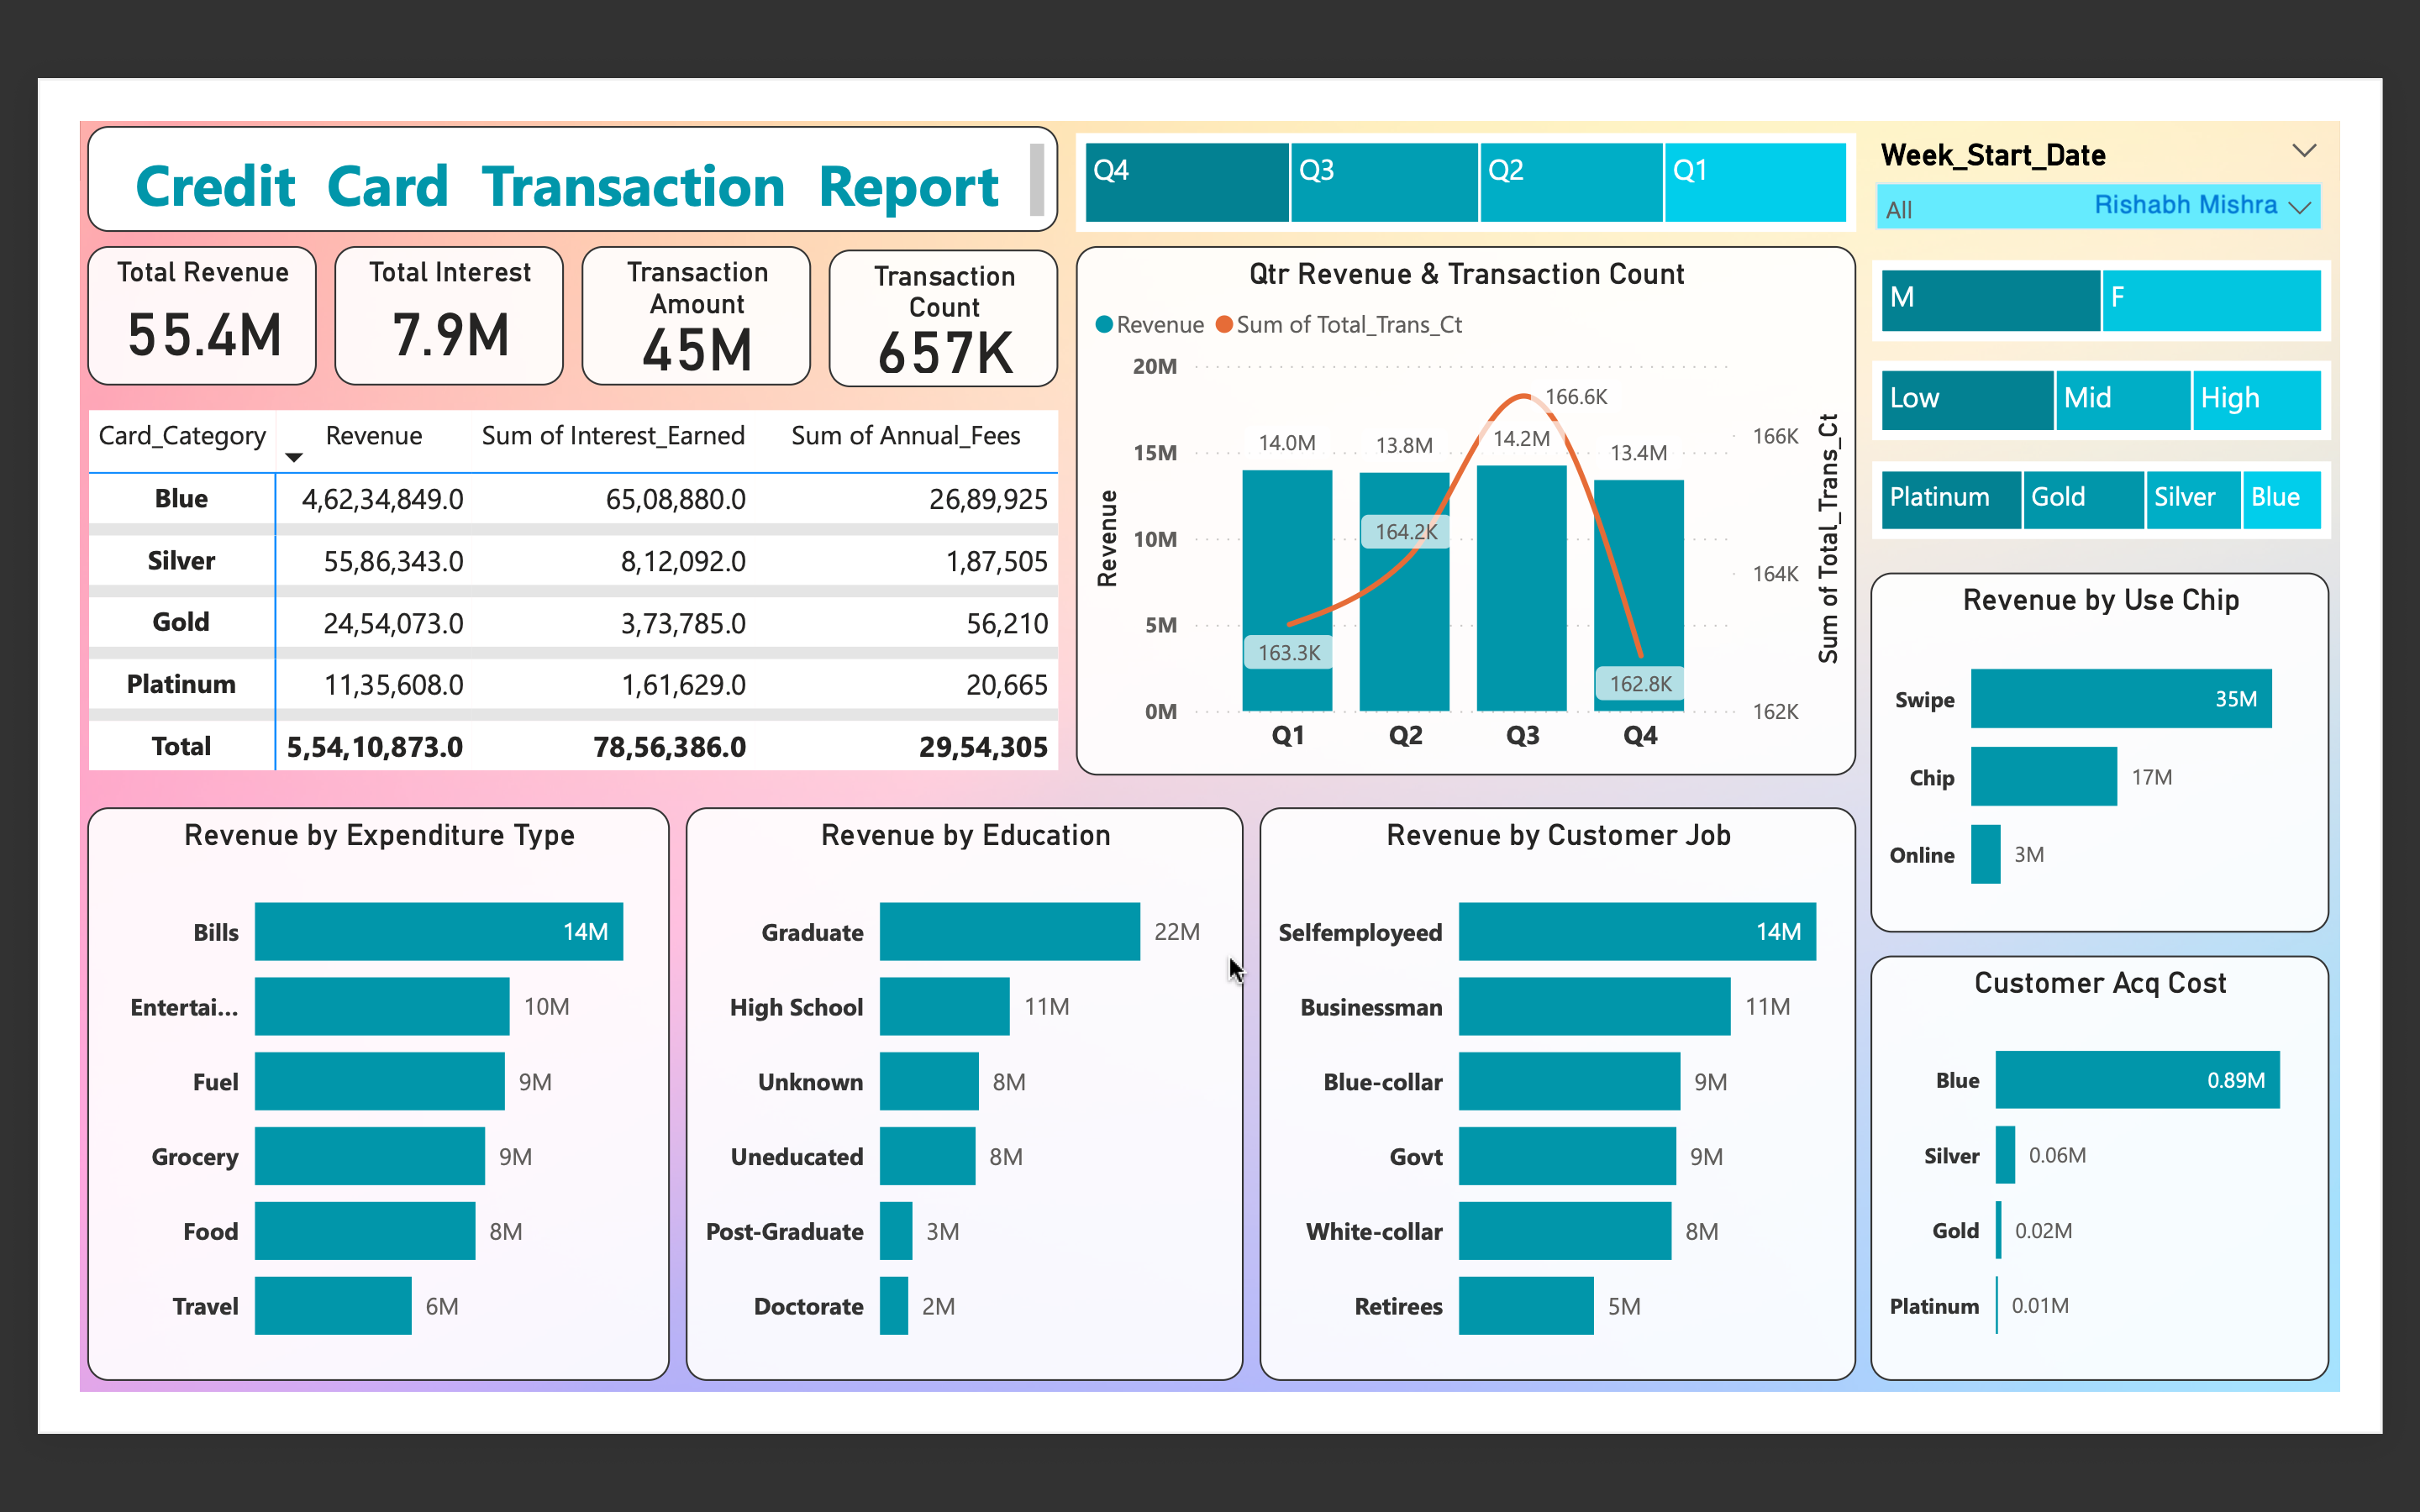

Layout of this report page (visuals, bound fields, positions):
{"tool":"powerbi","page":{"name":"CC Transaction","canvas":[1280,720],"ordinal":1},"visuals":[{"type":"textbox","box":[10.4,15.7,529.8,64.8],"z":0},{"type":"lineStackedColumnComboChart","title":"QTR Revenue and total trans count","fields":{"Category":["public cc_detail.qtr"],"Y":["Sum(public cc_detail.Revenue)"],"Y2":["Sum(public cc_detail.total_trans_ct)"]},"box":[545.4,96.1,377.2,327.1],"z":1000},{"type":"barChart","title":"Revenue by Expenditure type","fields":{"Y":["Sum(public cc_detail.Revenue)"],"Category":["public cc_detail.exp_type"]},"box":[10.4,431.5,298.8,280],"z":2000},{"type":"barChart","title":"Revenue by Education","fields":{"Y":["Sum(public cc_detail.Revenue)"],"Category":["public cust_detail.education_level"]},"box":[316.6,431.5,298.8,280],"z":3000},{"type":"barChart","title":"Revenue by Customer Job","fields":{"Y":["Sum(public cc_detail.Revenue)"],"Category":["public cust_detail.customer_job"]},"box":[622.8,431.5,299.9,280],"z":4000},{"type":"barChart","title":"Customer Acq Cost","fields":{"Y":["Sum(public cc_detail.Revenue)"],"Category":["public cc_detail.card_category"]},"box":[930,522.4,344.8,189.1],"z":5000},{"type":"barChart","title":"Revenue by Use Chip","fields":{"Y":["Sum(public cc_detail.Revenue)"],"Category":["public cc_detail.use_chip"]},"box":[927.9,318.7,345.9,189.1],"z":6000},{"type":"tableEx","fields":{"Values":["public cc_detail.card_category","Sum(public cc_detail.Revenue)","Sum(public cc_detail.total_trans_amt)","Sum(public cc_detail.interest_earned)"]},"box":[10.4,190.2,529.8,233],"z":7000},{"type":"card","title":"Revenue","fields":{"Values":["Sum(public cc_detail.Revenue)"]},"box":[10.4,96.1,123.3,78.4],"z":8000},{"type":"card","title":"Amount","fields":{"Values":["Sum(public cc_detail.total_trans_amt)"]},"box":[146.3,96.1,123.3,78.4],"z":9000},{"type":"card","title":"Total Intrest","fields":{"Values":["Sum(public cc_detail.interest_earned)"]},"box":[281.1,96.1,123.3,78.4],"z":10000},{"type":"card","title":"Count","fields":{"Values":["Sum(public cc_detail.total_trans_ct)"]},"box":[416.9,96.1,123.3,78.4],"z":11000},{"type":"slicer","fields":{"Values":["public cc_detail.week_start_date"]},"box":[928.9,21.9,345.9,58.5],"z":12000},{"type":"treemap","fields":{"Group":["public cc_detail.qtr"],"Values":["Avg(public cc_detail.client_num)"]},"box":[545.4,21.9,377.2,58.5],"z":13000},{"type":"treemap","fields":{"Values":["Avg(public cc_detail.client_num)"],"Group":["public cust_detail.gender"]},"box":[928.9,107.6,345.9,58.5],"z":14000},{"type":"treemap","fields":{"Values":["Avg(public cc_detail.client_num)"],"Group":["public cc_detail.card_category"]},"box":[928.9,241.4,344.8,58.5],"z":15000},{"type":"treemap","fields":{"Values":["Avg(public cc_detail.client_num)"],"Group":["public cust_detail.IncomeGroup"]},"box":[928.9,174.5,344.8,58.5],"z":16000}]}

Visuals, with their boxes on the page's 1280x720 design canvas (x1, y1, x2, y2). These are canvas units, not pixel positions in the 2420x1512 screenshot, which may show the page scaled, cropped or inside an application window:
textbox: bbox=[10, 16, 540, 80]
"QTR Revenue and total trans count" lineStackedColumnComboChart: bbox=[545, 96, 923, 423]
"Revenue by Expenditure type" barChart: bbox=[10, 432, 309, 712]
"Revenue by Education" barChart: bbox=[317, 432, 615, 712]
"Revenue by Customer Job" barChart: bbox=[623, 432, 923, 712]
"Customer Acq Cost" barChart: bbox=[930, 522, 1275, 712]
"Revenue by Use Chip" barChart: bbox=[928, 319, 1274, 508]
tableEx - public cc_detail.card_category x Sum(public cc_detail.Revenue): bbox=[10, 190, 540, 423]
"Revenue" card: bbox=[10, 96, 134, 174]
"Amount" card: bbox=[146, 96, 270, 174]
"Total Intrest" card: bbox=[281, 96, 404, 174]
"Count" card: bbox=[417, 96, 540, 174]
slicer - public cc_detail.week_start_date: bbox=[929, 22, 1275, 80]
treemap - public cc_detail.qtr x Avg(public cc_detail.client_num): bbox=[545, 22, 923, 80]
treemap - Avg(public cc_detail.client_num) x public cust_detail.gender: bbox=[929, 108, 1275, 166]
treemap - Avg(public cc_detail.client_num) x public cc_detail.card_category: bbox=[929, 241, 1274, 300]
treemap - Avg(public cc_detail.client_num) x public cust_detail.IncomeGroup: bbox=[929, 174, 1274, 233]
